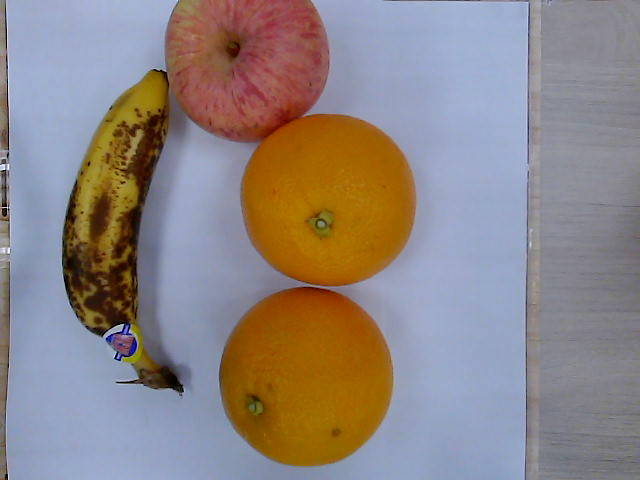fresh_apple: (164, 1, 327, 141)
fresh_orange: (220, 287, 396, 469), (241, 114, 417, 286)
rotten_banana: (62, 70, 187, 395)
